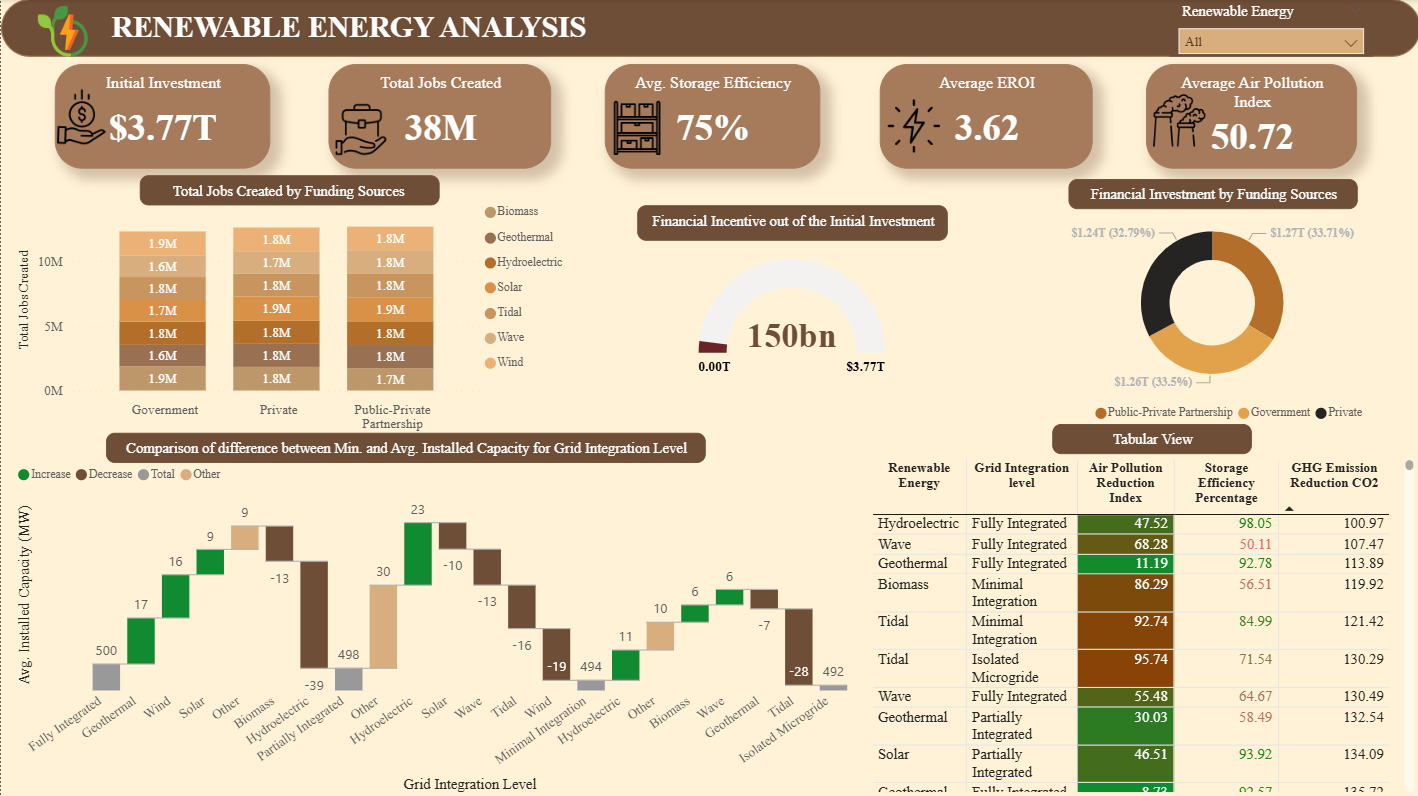

The page's visual inventory and layout, read from the dashboard file:
{"tool":"powerbi","page":{"name":"Dashboard","canvas":[1280,720],"ordinal":0},"visuals":[{"type":"card","title":"Initial Investment","fields":{"Values":["Sum(energy_dataset_.Initial_Investment_USD)"]},"box":[48.7,58.5,194,94.8],"z":0},{"type":"card","title":"Total Jobs Created","fields":{"Values":["Sum(energy_dataset_.Jobs_Created)"]},"box":[295,58.5,201.1,94.8],"z":1000},{"type":"card","title":"Avg. Storage Efficiency","fields":{"Values":["Avg(energy_dataset_.storage_efficiency)"]},"box":[544,58.5,194,94.8],"z":2000},{"type":"card","title":"Average EROI","fields":{"Values":["Avg(energy_dataset_.EROI)"]},"box":[792.9,58.5,192.2,94.8],"z":3000},{"type":"columnChart","title":"Jobs Created with each funding source","fields":{"Category":["energy_dataset_.Txt_funding_sources"],"Series":["energy_dataset_.Txt_Type_of_renewable_energy"],"Y":["Sum(energy_dataset_.Jobs_Created)"]},"box":[9.7,176.3,510.3,222.4],"z":4000},{"type":"donutChart","title":"Initial Investment by different sources","fields":{"Category":["energy_dataset_.Txt_funding_sources"],"Y":["Sum(energy_dataset_.Initial_Investment_USD)"]},"box":[948,184.3,288.8,207.3],"z":5000},{"type":"gauge","title":"Financial Incentives out of Total Initial Investment","fields":{"MaxValue":["Sum(energy_dataset_.Initial_Investment_USD)"],"Y":["Sum(energy_dataset_.Financial_Incentives_USD)"]},"box":[582.9,229.5,261.4,116.9],"z":6000},{"type":"tableEx","fields":{"Values":["energy_dataset_.Txt_Type_of_renewable_energy","energy_dataset_.Txt_Grid_Integration_level","energy_dataset_.Air_Pollution_Reduction_Index","energy_dataset_.Storage_Efficiency_Percentage","energy_dataset_.GHG_Emission_Reduction_tCO2e"]},"box":[780.5,410.2,499.7,310.1],"z":7000},{"type":"card","title":"Average Air Pollution Index","fields":{"Values":["Avg(energy_dataset_.Air_Pollution_Reduction_Index)"]},"box":[1033,58.5,190.5,94.8],"z":8000},{"type":"waterfallChart","fields":{"Category":["energy_dataset_.Txt_Grid_Integration_level"],"Y":["Avg(energy_dataset_.Installed_Capacity_MW)"],"Breakdown":["energy_dataset_.Txt_Type_of_renewable_energy"]},"box":[9.7,410.2,770.8,310.1],"z":9000},{"type":"shape","box":[0,0,1280.2,52.3],"z":10000},{"type":"image","box":[42.5,77.1,59.4,59.4],"z":11000},{"type":"image","box":[294.7,85.6,61.1,63.6],"z":12000},{"type":"image","box":[544.2,77,58.7,79.5],"z":13000},{"type":"image","box":[792.4,85.6,61.1,57.5],"z":14000},{"type":"image","box":[1033,81.5,60.2,56.7],"z":15000},{"type":"textbox","box":[962.1,162.1,260.5,27.5],"z":16000},{"type":"textbox","box":[574.1,186,280,31.9],"z":17000},{"type":"textbox","box":[124.9,158.6,270.2,27.5],"z":18000},{"type":"textbox","box":[948,382.7,179.8,27.5],"z":19000},{"type":"textbox","box":[94.8,391.6,540.4,27.5],"z":20000},{"type":"slicer","fields":{"Values":["energy_dataset_.Txt_Type_of_renewable_energy"]},"box":[1053.4,0,183.4,52.3],"z":21000},{"type":"textbox","box":[94.8,5.3,501.4,41.6],"z":22000},{"type":"image","box":[23.9,0,63.8,58.5],"z":23000}]}

Visuals, with their boxes in screenshot pixels (x1, y1, x2, y2), scaled from the page's 1280x720 canvas onto the 1418x796 screenshot:
"Initial Investment" card: {"x1": 54, "y1": 65, "x2": 269, "y2": 169}
"Total Jobs Created" card: {"x1": 327, "y1": 65, "x2": 550, "y2": 169}
"Avg. Storage Efficiency" card: {"x1": 603, "y1": 65, "x2": 818, "y2": 169}
"Average EROI" card: {"x1": 878, "y1": 65, "x2": 1091, "y2": 169}
"Jobs Created with each funding source" columnChart: {"x1": 11, "y1": 195, "x2": 576, "y2": 441}
"Initial Investment by different sources" donutChart: {"x1": 1050, "y1": 204, "x2": 1370, "y2": 433}
"Financial Incentives out of Total Initial Investment" gauge: {"x1": 646, "y1": 254, "x2": 935, "y2": 383}
tableEx - energy_dataset_.Txt_Type_of_renewable_energy x energy_dataset_.Txt_Grid_Integration_level: {"x1": 865, "y1": 453, "x2": 1417, "y2": 795}
"Average Air Pollution Index" card: {"x1": 1144, "y1": 65, "x2": 1355, "y2": 169}
waterfallChart - energy_dataset_.Txt_Grid_Integration_level x Avg(energy_dataset_.Installed_Capacity_MW): {"x1": 11, "y1": 453, "x2": 865, "y2": 795}
shape: {"x1": 0, "y1": 0, "x2": 1417, "y2": 58}
image: {"x1": 47, "y1": 85, "x2": 113, "y2": 151}
image: {"x1": 326, "y1": 95, "x2": 394, "y2": 165}
image: {"x1": 603, "y1": 85, "x2": 668, "y2": 173}
image: {"x1": 878, "y1": 95, "x2": 946, "y2": 158}
image: {"x1": 1144, "y1": 90, "x2": 1211, "y2": 153}
textbox: {"x1": 1066, "y1": 179, "x2": 1354, "y2": 210}
textbox: {"x1": 636, "y1": 206, "x2": 946, "y2": 241}
textbox: {"x1": 138, "y1": 175, "x2": 438, "y2": 206}
textbox: {"x1": 1050, "y1": 423, "x2": 1249, "y2": 453}
textbox: {"x1": 105, "y1": 433, "x2": 704, "y2": 463}
slicer - energy_dataset_.Txt_Type_of_renewable_energy: {"x1": 1167, "y1": 0, "x2": 1370, "y2": 58}
textbox: {"x1": 105, "y1": 6, "x2": 660, "y2": 52}
image: {"x1": 26, "y1": 0, "x2": 97, "y2": 65}
